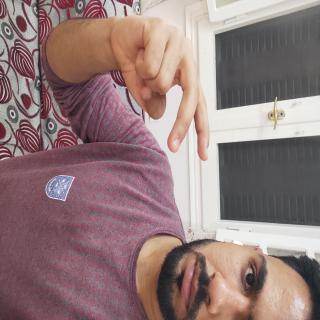ZAY: (5, 140, 128, 283)
